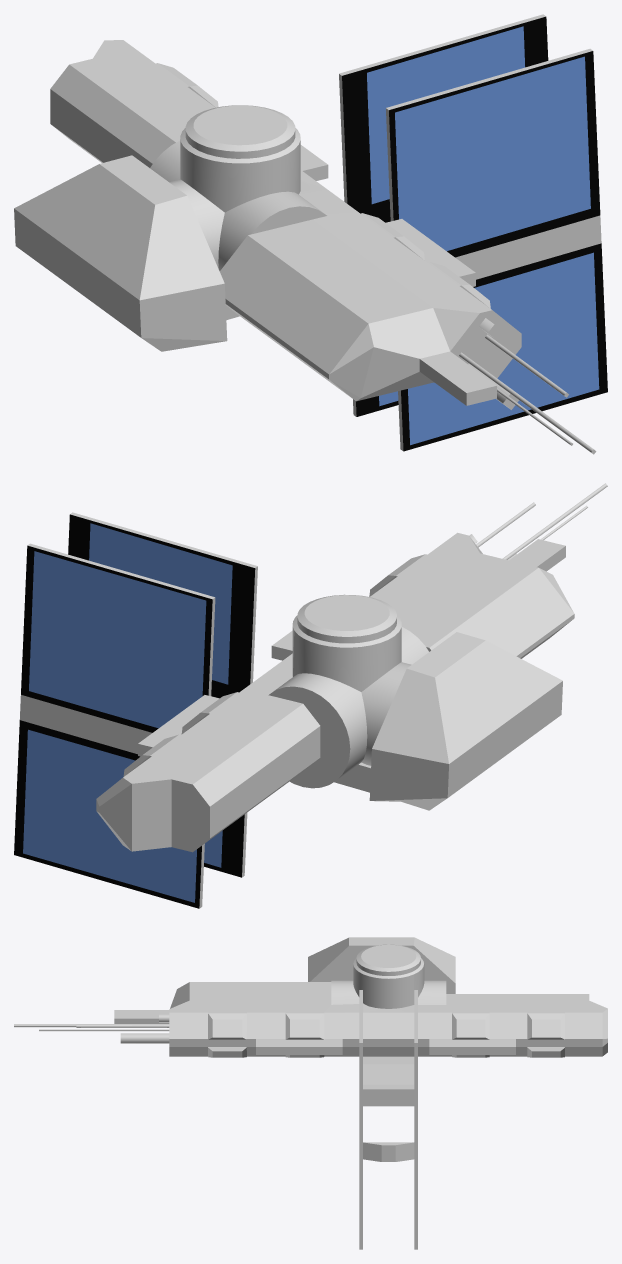
File: station.fbx
The picture shows the model from 3 angles, top to bottom: view 1: azimuth 30°, elevation 25°; view 2: azimuth 150°, elevation 25°; view 3: azimuth 270°, elevation 25°; orthographic projection. The views are drawn at different scales.
Parts seen in each view (by area): view 1: Cube; view 2: Cube; view 3: Cube.
Boxes of the visible parts, <box> form: Cube: <box>14,14,607,454</box>; Cube: <box>14,483,607,908</box>; Cube: <box>14,937,607,1249</box>.
Bounding box in the file's own units: 51248 × 33687 × 87166.
